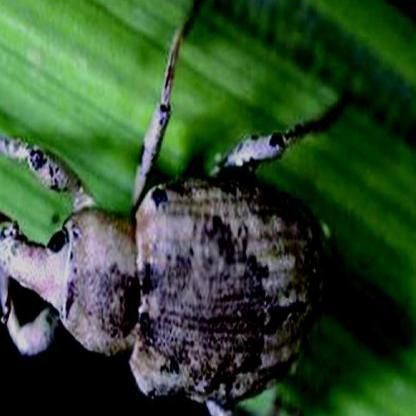rice-bug: (0, 71, 324, 416)
